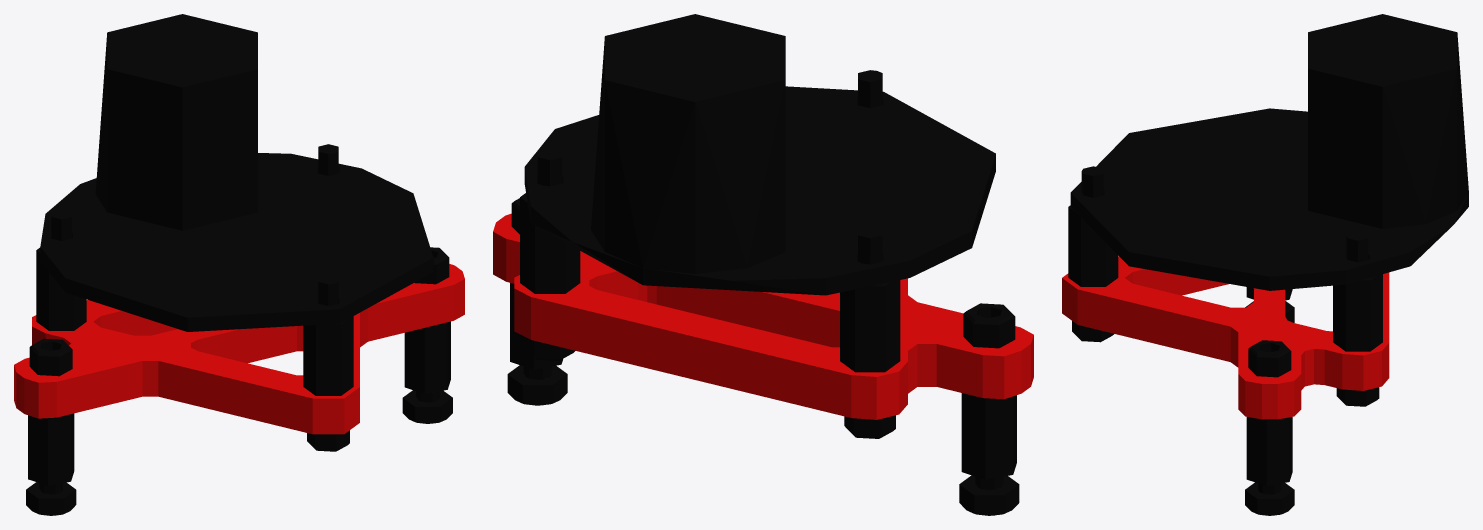
File: leddar_one.dae
3 views of the same model, side by side, from view 1: azimuth 30°, elevation 25°; view 2: azimuth 150°, elevation 25°; view 3: azimuth 270°, elevation 25° (orthographic). The views are drawn at different scales.
Parts seen in each view (by area): view 1: Leddar_One_Black, Leddar_One_Red; view 2: Leddar_One_Black, Leddar_One_Red; view 3: Leddar_One_Black, Leddar_One_Red.
Part boxes in pixels (x1,y1,x2,y2): Leddar_One_Black: [26, 14, 452, 515]; Leddar_One_Red: [14, 264, 464, 434]; Leddar_One_Black: [507, 14, 1019, 515]; Leddar_One_Red: [493, 213, 1033, 419]; Leddar_One_Black: [1068, 14, 1468, 515]; Leddar_One_Red: [1062, 256, 1389, 419].
Bounding box in the file's own units: 0.064 × 0.0519 × 0.052.
